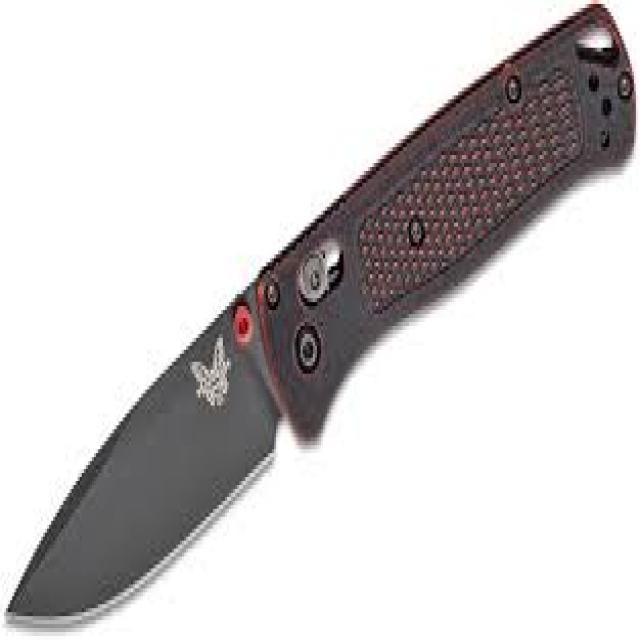knife: (4, 3, 640, 632)
